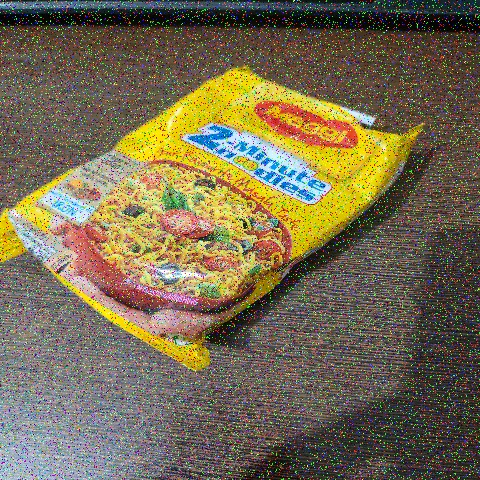maggi: (28, 57, 426, 379)
